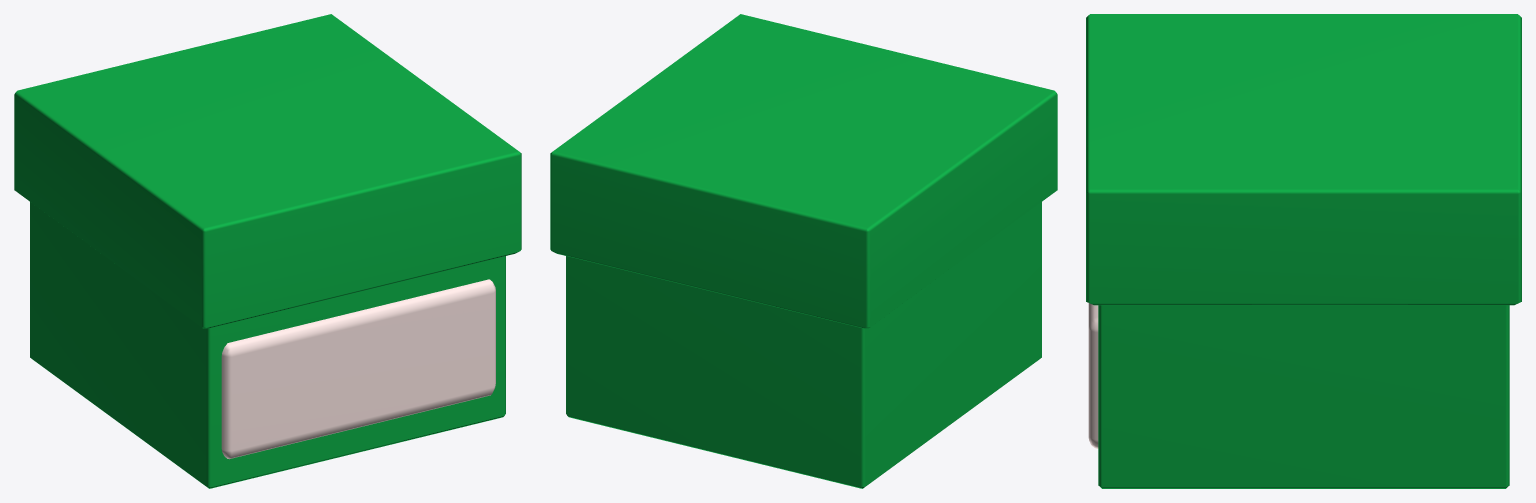
File: Public_6_Box_8.glb
The picture shows the model from 3 angles, left to right: view 1: azimuth 30°, elevation 25°; view 2: azimuth 150°, elevation 25°; view 3: azimuth 270°, elevation 25°; orthographic projection. The views are drawn at different scales.
Visible parts, largest first — view 1: Public_6_Box_8; view 2: Public_6_Box_8; view 3: Public_6_Box_8.
Part boxes in pixels (x1,y1,x2,y2): Public_6_Box_8: (14, 14, 521, 488); Public_6_Box_8: (550, 14, 1057, 488); Public_6_Box_8: (1086, 14, 1521, 488).
Size of the model in its own units: 1.29 by 1.03 by 1.33.
Materials: 1 (1 with a texture image).
